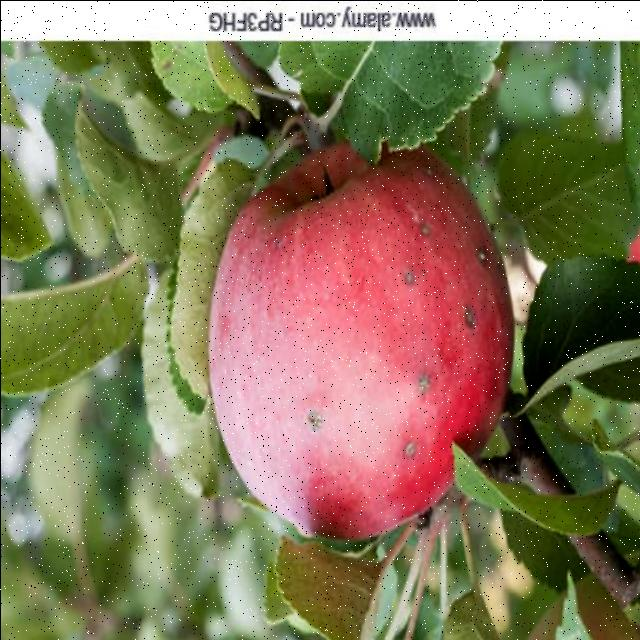SCAB: (184, 147, 548, 573)
